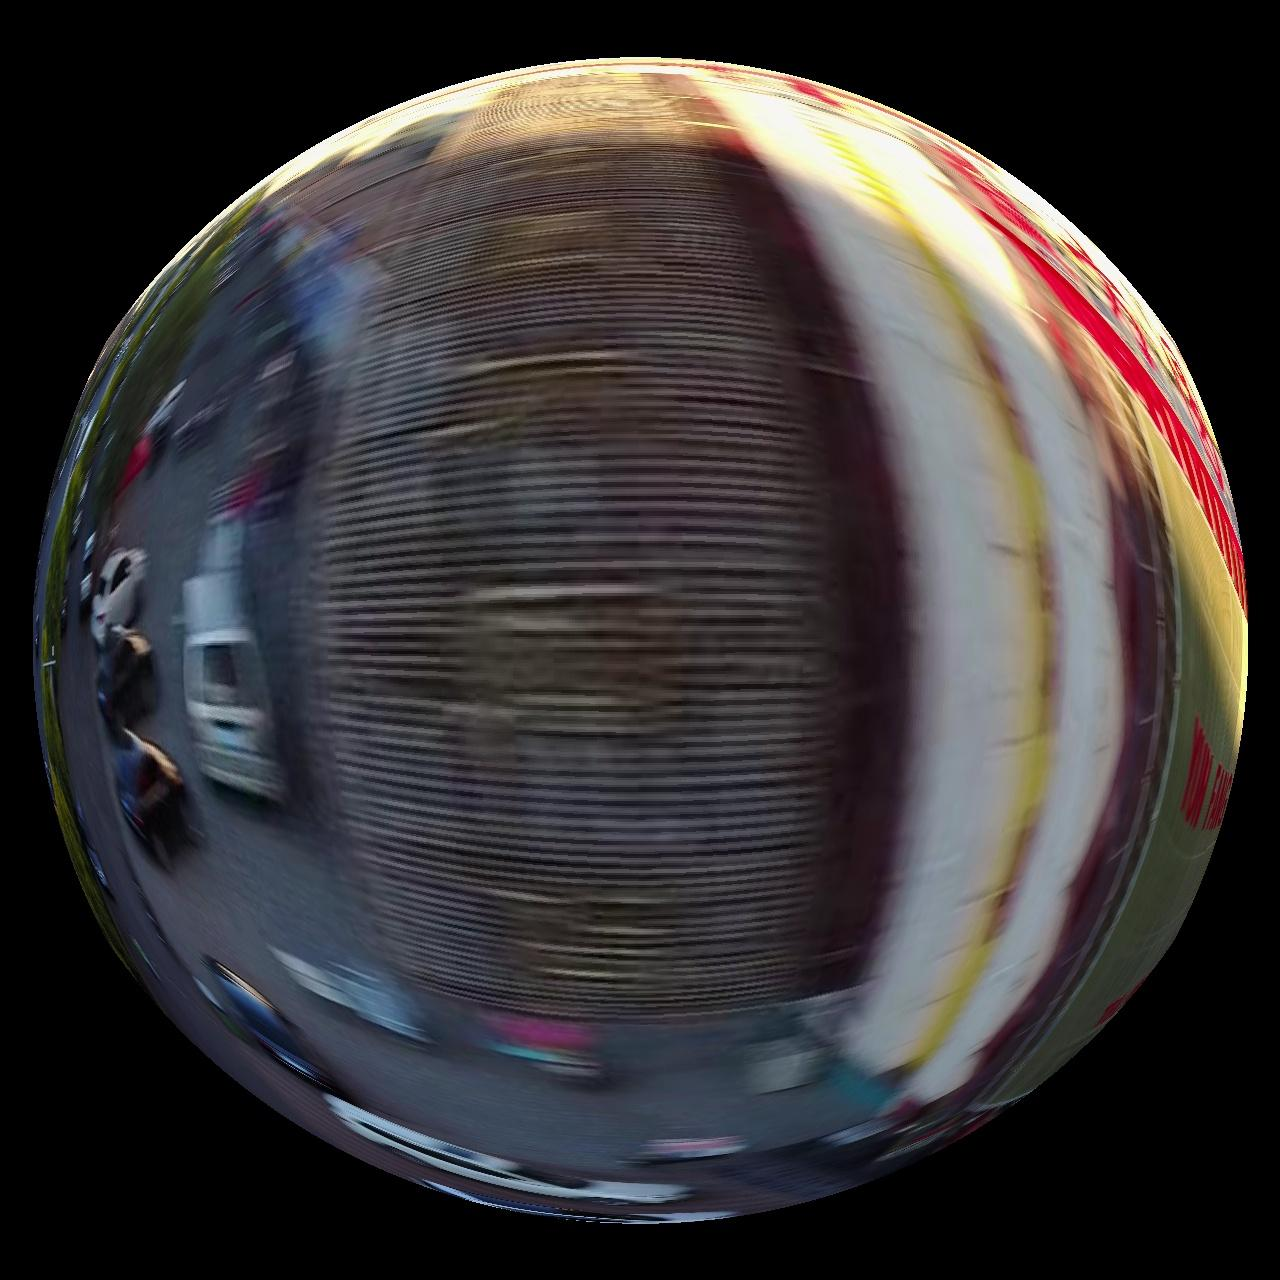cars: (324, 1096, 690, 1207), (182, 561, 288, 804), (113, 729, 193, 869), (95, 625, 155, 738), (89, 549, 147, 647)
